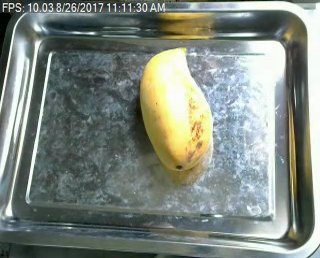Mango: (135, 45, 211, 176)
